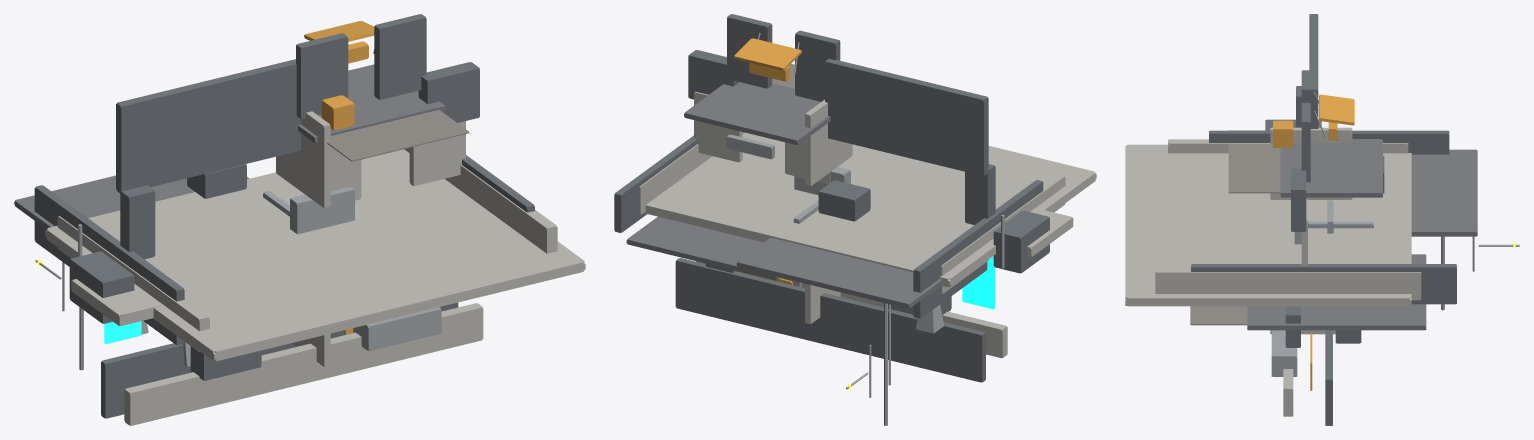
The model's file is relay_operations_v2.glb.
3 renders of one model, left to right at view 1: azimuth 30°, elevation 25°; view 2: azimuth 150°, elevation 25°; view 3: azimuth 270°, elevation 25°, orthographic. The views are drawn at different scales.
Parts seen in each view (by area): view 1: Relay_FoundationSlab, Wall_S_Ops_wall_fade, Wall_N_Base, Wall_S_Airlock_R_wall_fade, Wall_W_Upper, Wall_N_Upper, Floor_Airlock, Wall_S_Airlock_L_wall_fade, Roof_Airlock_roof, Partition_Ops_S, Wall_E_Base, Roof_Ops_roof (+16 smaller); view 2: Relay_FoundationSlab, Wall_N_Upper, Wall_S_Ops_wall_fade, Roof_Ops_roof, Roof_Airlock_roof, Roof_Workshop_roof, Wall_W_Upper, Gen_Unit_Main, Wall_S_Airlock_L_wall_fade, Partition_Ops_S, Wall_S_Airlock_R_wall_fade, Wall_E_Upper (+17 smaller); view 3: Relay_FoundationSlab, Wall_E_Base, Roof_Ops_roof, Roof_Airlock_roof, Roof_Workshop_roof, Wall_E_Upper, Floor_Airlock, Wall_W_Upper, Wall_W_Base, Floor_Workshop, Wall_S_Ops_wall_fade, Airlock_Lockers (+10 smaller).
Part boxes in pixels (x1,y1,x2,y2): Relay_FoundationSlab: (45, 149, 585, 361); Wall_S_Ops_wall_fade: (116, 59, 300, 193); Wall_N_Base: (124, 303, 483, 425); Wall_S_Airlock_R_wall_fade: (374, 14, 426, 99); Wall_W_Upper: (34, 185, 184, 344); Wall_N_Upper: (101, 302, 458, 418); Floor_Airlock: (327, 109, 469, 161); Wall_S_Airlock_L_wall_fade: (296, 33, 348, 118); Roof_Airlock_roof: (298, 64, 445, 142); Partition_Ops_S: (276, 111, 330, 207); Wall_E_Base: (404, 148, 557, 253); Roof_Ops_roof: (14, 175, 249, 229); Relay_FoundationSlab: (644, 132, 1096, 287); Wall_N_Upper: (675, 258, 985, 382); Wall_S_Ops_wall_fade: (825, 58, 988, 175); Roof_Ops_roof: (736, 237, 942, 308); Roof_Airlock_roof: (684, 82, 830, 144); Roof_Workshop_roof: (626, 216, 780, 280); Wall_W_Upper: (913, 180, 1043, 318); Gen_Unit_Main: (993, 210, 1049, 273); Wall_S_Airlock_L_wall_fade: (795, 30, 840, 101); Partition_Ops_S: (805, 99, 852, 186); Wall_S_Airlock_R_wall_fade: (727, 14, 772, 88); Wall_E_Upper: (614, 135, 697, 232); Relay_FoundationSlab: (1125, 144, 1411, 306); Wall_E_Base: (1155, 268, 1421, 300); Roof_Ops_roof: (1411, 149, 1477, 236); Roof_Airlock_roof: (1280, 139, 1382, 197); Roof_Workshop_roof: (1247, 254, 1426, 330); Wall_E_Upper: (1191, 264, 1456, 304); Floor_Airlock: (1228, 143, 1280, 193); Wall_W_Upper: (1209, 130, 1449, 154); Wall_W_Base: (1168, 139, 1408, 153); Floor_Workshop: (1190, 306, 1247, 325); Wall_S_Ops_wall_fade: (1309, 14, 1318, 128); Airlock_Lockers: (1291, 168, 1306, 231).
Size of the model in its own units: 15.5 by 12.85 by 15.42.
